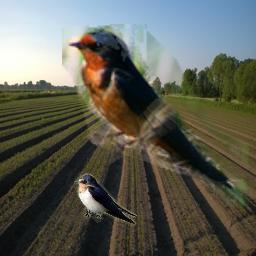Swallow: (62, 24, 249, 206), (74, 173, 137, 226)
